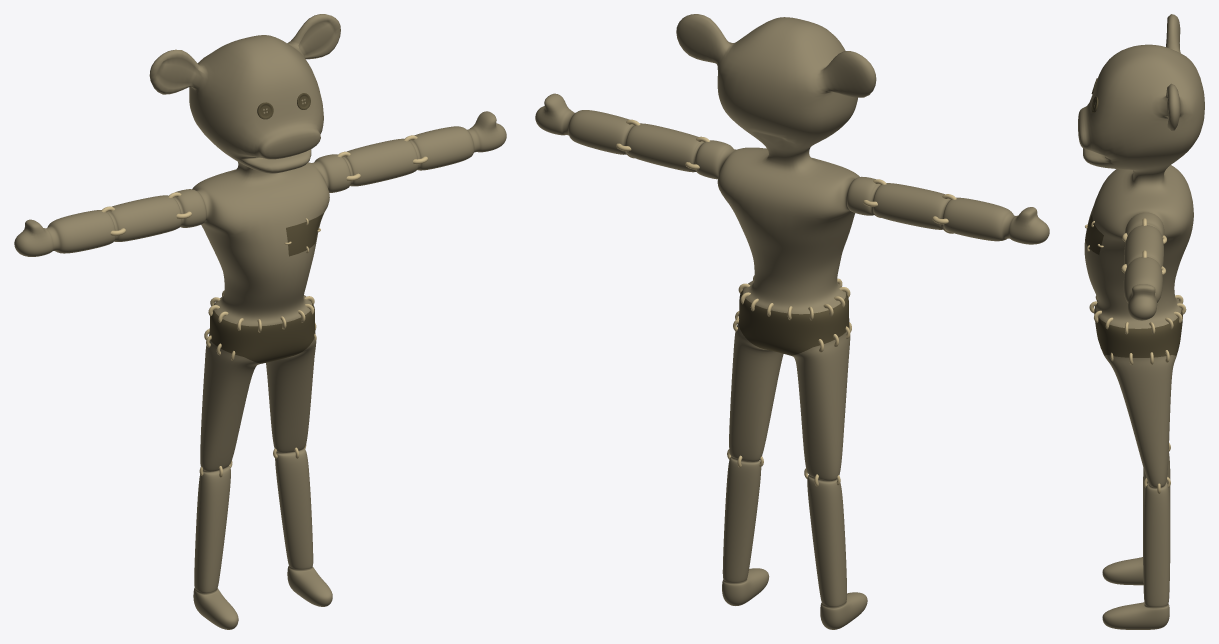
The model's file is Urso_fbx.fbx.
The picture shows the model from 3 angles, left to right: view 1: azimuth 30°, elevation 25°; view 2: azimuth 150°, elevation 25°; view 3: azimuth 270°, elevation 25°; orthographic projection. The views are drawn at different scales.
Visible parts, largest first — view 1: Corpo; view 2: Corpo; view 3: Corpo.
Part boxes in pixels (<box>): Corpo: <box>14,14,506,629</box>; Corpo: <box>535,14,1049,629</box>; Corpo: <box>1078,14,1204,629</box>.
Size of the model in its own units: 3.79 by 4.19 by 0.8682.
